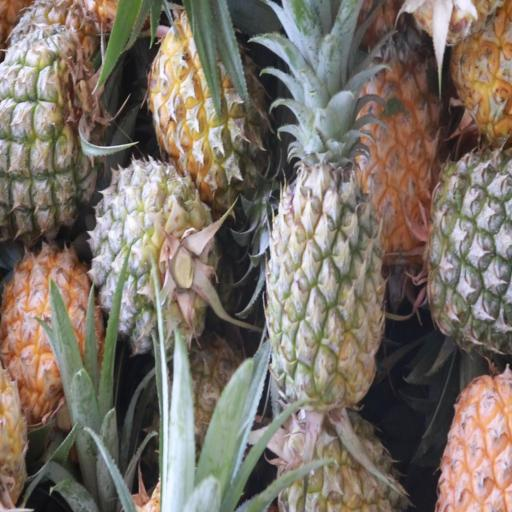------------------------------: (266, 176, 382, 407), (96, 157, 218, 344), (148, 22, 266, 195)
Pineapple - v8 v1: (361, 42, 448, 250), (2, 253, 107, 415)
